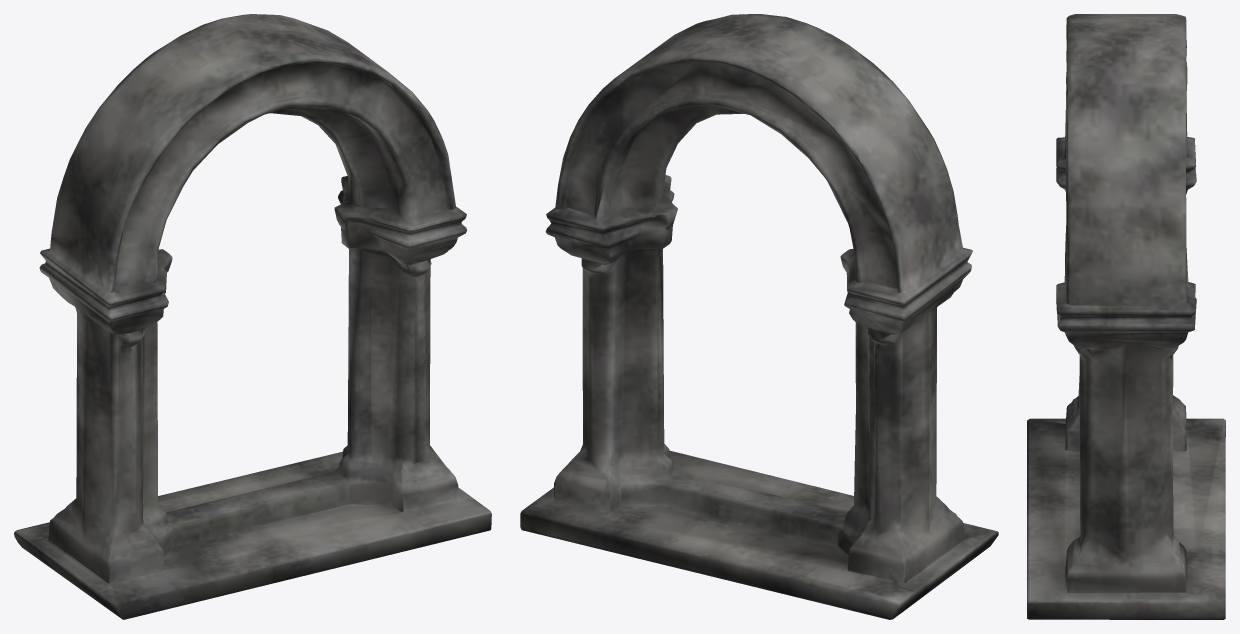
File: ornate-granite-arched-doorway-v001.glb
The picture shows the model from 3 angles, left to right: view 1: azimuth 30°, elevation 25°; view 2: azimuth 150°, elevation 25°; view 3: azimuth 270°, elevation 25°; orthographic projection.
Visible parts, largest first — view 1: ornate-granite-arched-doorway; view 2: ornate-granite-arched-doorway; view 3: ornate-granite-arched-doorway.
Boxes of the visible parts, bbox=[...] form: ornate-granite-arched-doorway: bbox=[14, 14, 491, 619]; ornate-granite-arched-doorway: bbox=[520, 14, 998, 619]; ornate-granite-arched-doorway: bbox=[1027, 14, 1225, 619].
Size of the model in its own units: 2.37 by 3.02 by 1.09.
Materials: 1 (1 with a texture image).
